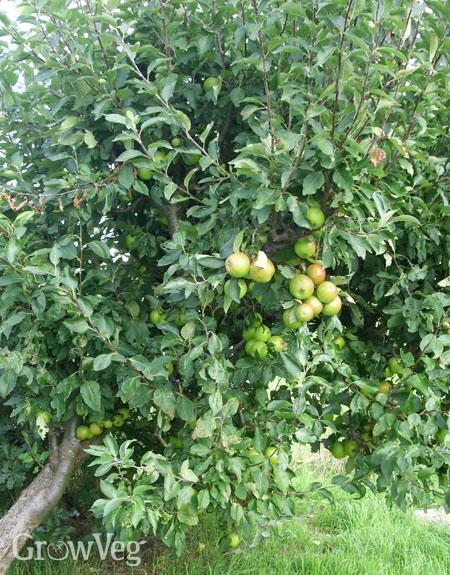apple: (248, 251, 275, 284), (224, 253, 249, 278), (290, 276, 315, 299), (316, 281, 339, 303), (319, 294, 342, 316), (302, 207, 324, 229), (294, 237, 316, 259), (305, 264, 326, 286), (297, 303, 313, 322)
